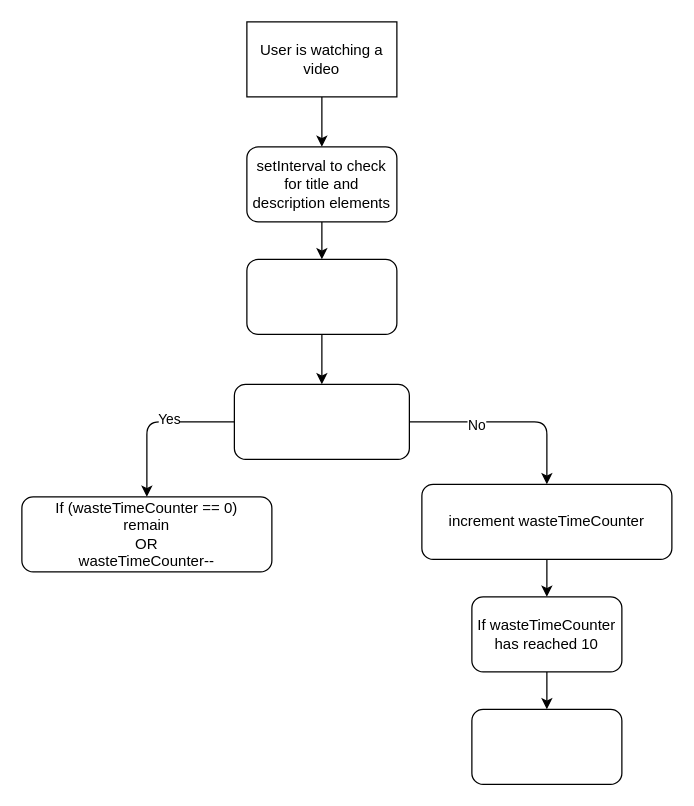
This 694x806 diagram has some shape labels left out. The box of each missing label's shape, as (x1, y1, x2, y2) in pixels:
Block user for 10 minutes: (471, 708, 622, 784)
Check if words from Goals match with a word from title or description: (233, 383, 409, 459)
Split title and description value into single words: (246, 258, 397, 334)
